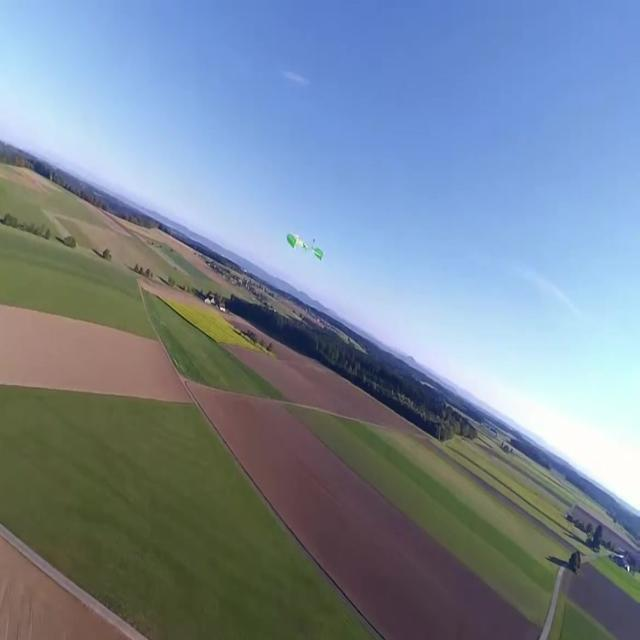iha: (286, 233, 325, 263)
